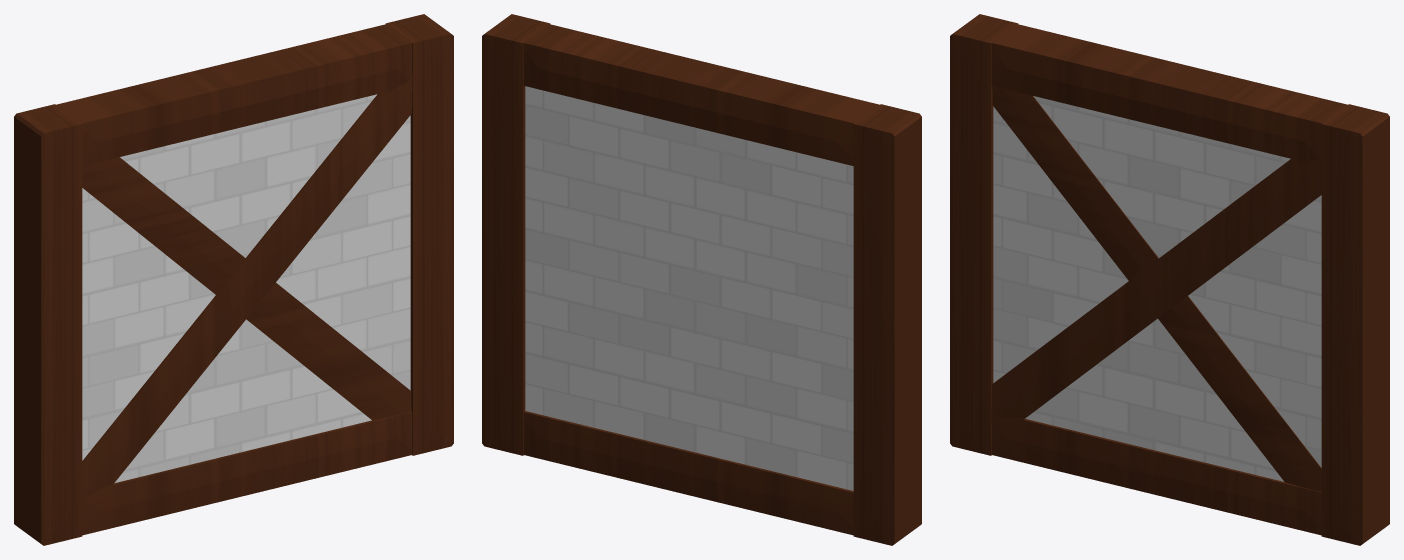
The model's file is Wall_X_Brick.fbx.
3 renders of one model, left to right at view 1: azimuth 30°, elevation 25°; view 2: azimuth 150°, elevation 25°; view 3: azimuth 330°, elevation 25°, orthographic.
Visible parts, largest first — view 1: Wall_X; view 2: Wall_X; view 3: Wall_X.
Part boxes in pixels (x1,y1,x2,y2): Wall_X: [14, 14, 453, 545]; Wall_X: [482, 14, 921, 545]; Wall_X: [950, 14, 1389, 545].
Size of the model in its own units: 212 by 202 by 26.17.
